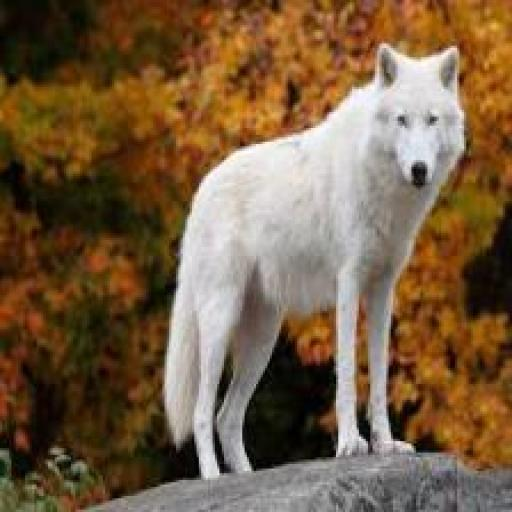wolf: (151, 39, 486, 483)
